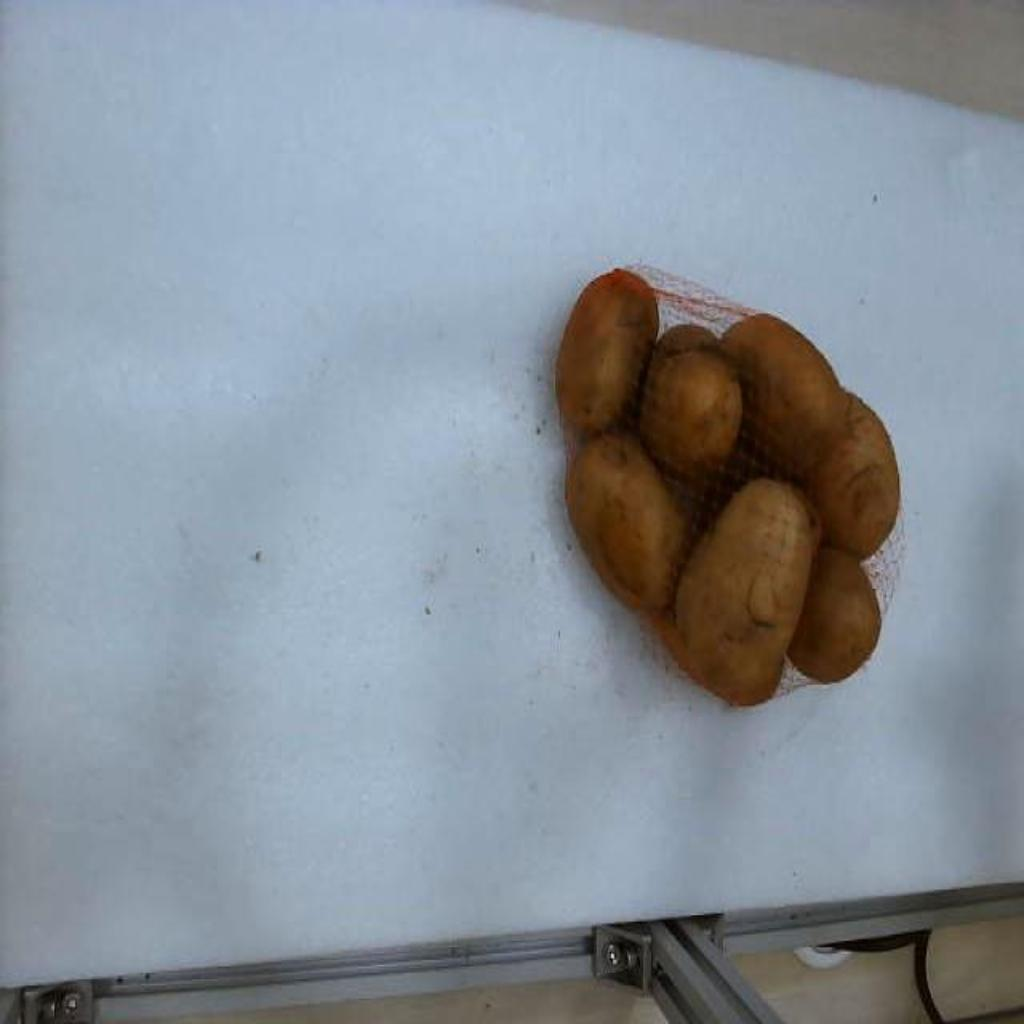potato: (676, 477, 818, 703), (568, 432, 688, 607), (720, 315, 846, 476), (556, 269, 658, 433), (804, 392, 900, 556), (640, 341, 742, 479), (788, 547, 882, 681), (656, 323, 718, 355)
